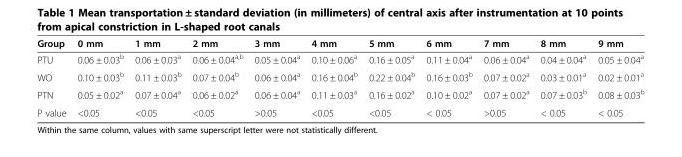table: (36, 37, 643, 118)
table column: (186, 37, 248, 118), (128, 37, 186, 118), (419, 37, 477, 118), (71, 37, 128, 118), (248, 37, 305, 118), (305, 37, 362, 118), (362, 37, 419, 118), (477, 37, 534, 118), (534, 37, 591, 118), (591, 37, 643, 118), (36, 37, 71, 118)
table column header: (36, 37, 643, 50)
table row: (36, 67, 643, 85), (36, 85, 643, 103), (36, 50, 643, 67), (36, 103, 643, 118), (36, 37, 643, 50)
